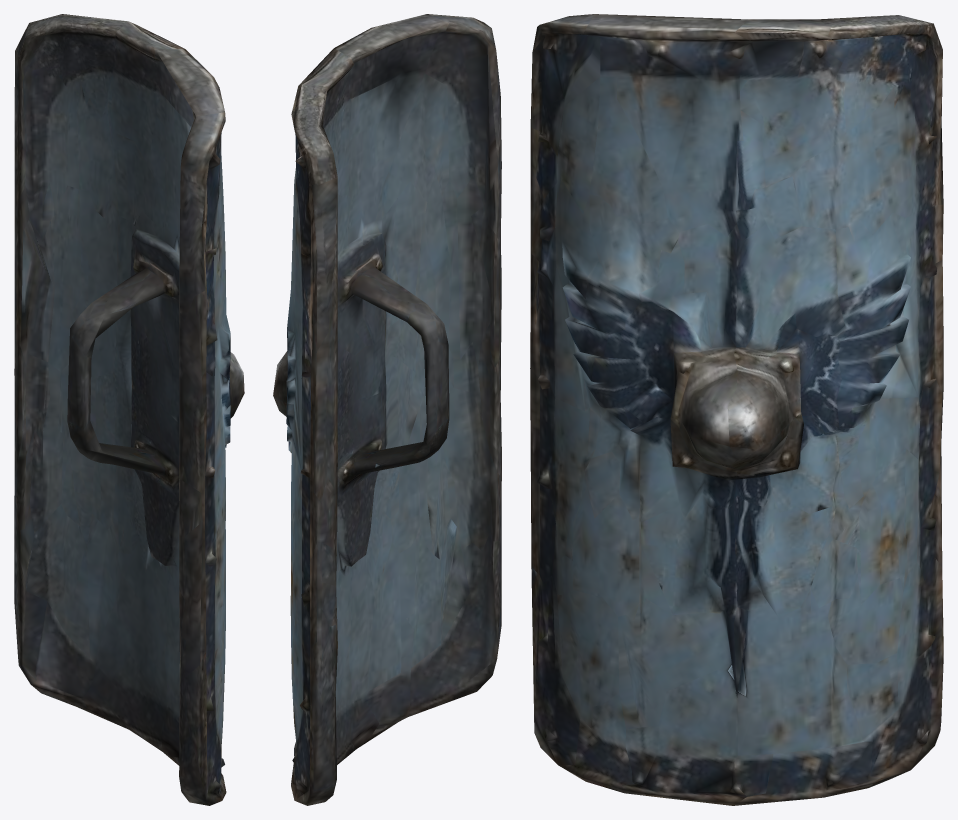
The model's file is shield.glb.
The picture shows the model from 3 angles, left to right: view 1: azimuth 30°, elevation 25°; view 2: azimuth 150°, elevation 25°; view 3: azimuth 270°, elevation 25°; orthographic projection. The views are drawn at different scales.
Visible parts, largest first — view 1: tripo_node_2a225e42-9a38-4315-ad85-8e5b27f94a33; view 2: tripo_node_2a225e42-9a38-4315-ad85-8e5b27f94a33; view 3: tripo_node_2a225e42-9a38-4315-ad85-8e5b27f94a33.
Boxes of the visible parts, left/top/right/bottom form: tripo_node_2a225e42-9a38-4315-ad85-8e5b27f94a33: left=14, top=14, right=244, bottom=805; tripo_node_2a225e42-9a38-4315-ad85-8e5b27f94a33: left=273, top=14, right=501, bottom=805; tripo_node_2a225e42-9a38-4315-ad85-8e5b27f94a33: left=530, top=14, right=943, bottom=805.
Size of the model in its own units: 0.2415 by 0.9748 by 0.4726.
Materials: 1 (1 with a texture image).
